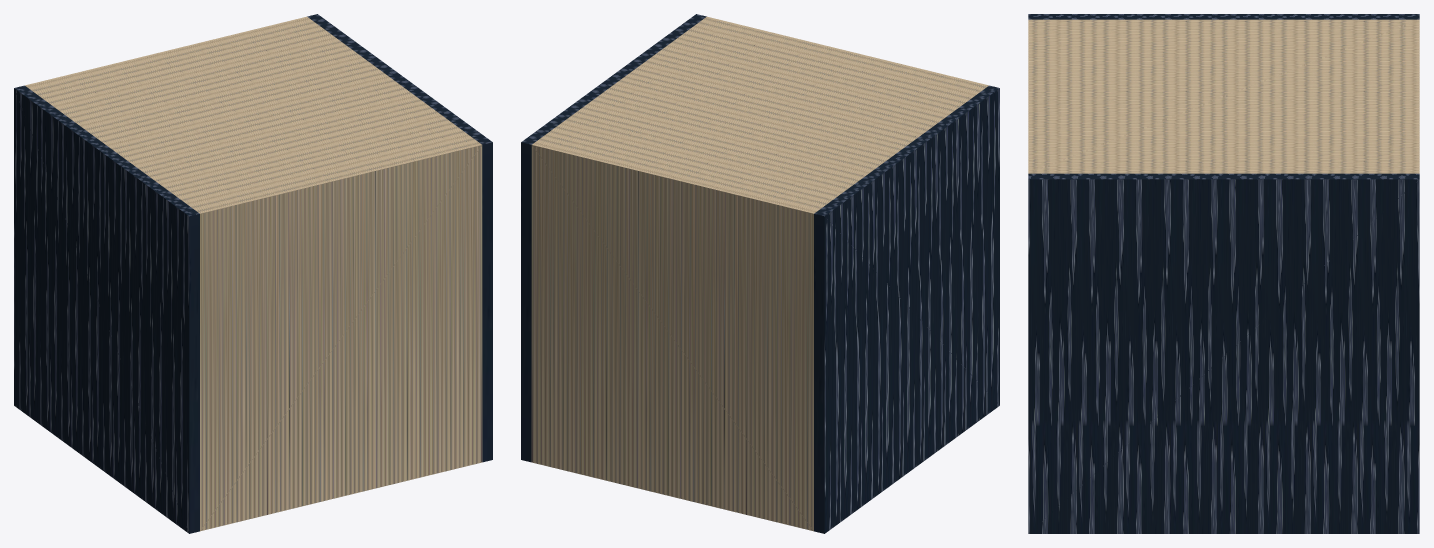
Rendered from sh-bs0-tatami.glb.
The picture shows the model from 3 angles, left to right: view 1: azimuth 30°, elevation 25°; view 2: azimuth 150°, elevation 25°; view 3: azimuth 270°, elevation 25°; orthographic projection. The views are drawn at different scales.
Visible parts, largest first — view 1: tatami_Plane.003, tatamBorder_Plane.001; view 2: tatami_Plane.003, tatamBorder_Plane.001; view 3: tatamBorder_Plane.001, tatami_Plane.003.
Boxes of the visible parts, left/top/right/bottom form: tatami_Plane.003: left=25, top=16, right=482, bottom=531; tatamBorder_Plane.001: left=14, top=14, right=492, bottom=533; tatami_Plane.003: left=531, top=16, right=988, bottom=531; tatamBorder_Plane.001: left=521, top=14, right=999, bottom=533; tatamBorder_Plane.001: left=1028, top=14, right=1419, bottom=533; tatami_Plane.003: left=1028, top=19, right=1419, bottom=173.
Bounding box in the file's own units: 1 × 1 × 1.
2 materials, 2 textured.
